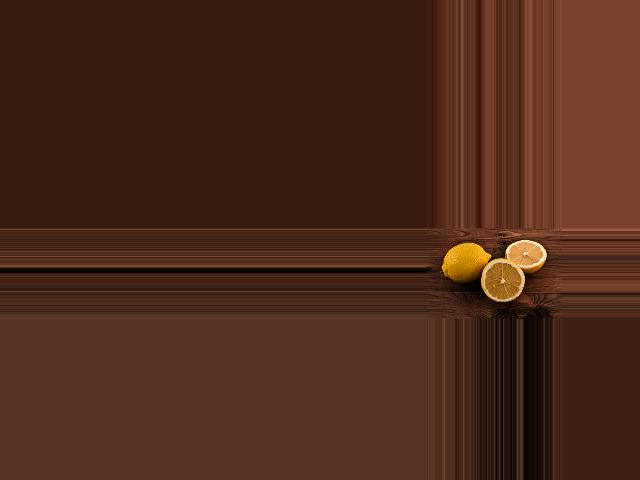lemon: (444, 237, 491, 284)
